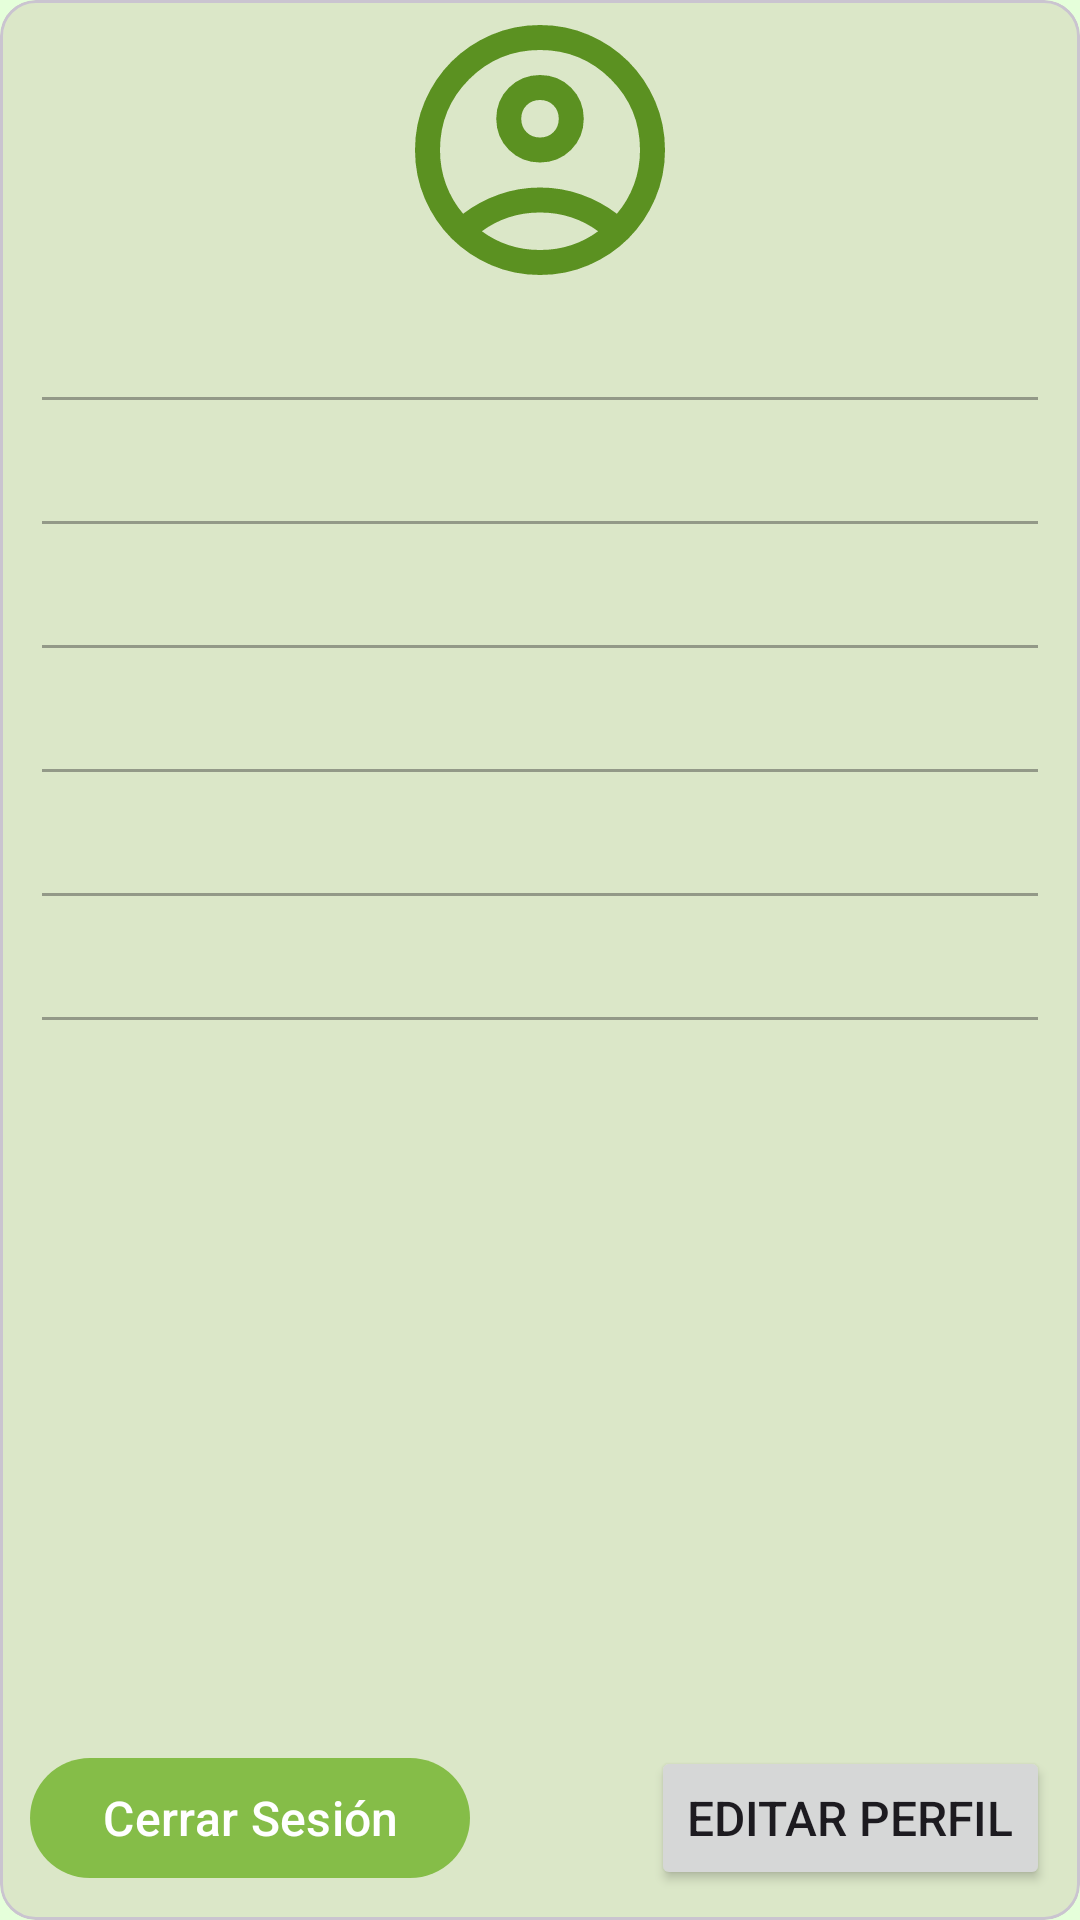

Screen size 1080×1920. Icon name, then its box in pixels as (x1, y1, x2, y2):
account: (415, 25, 665, 275)
